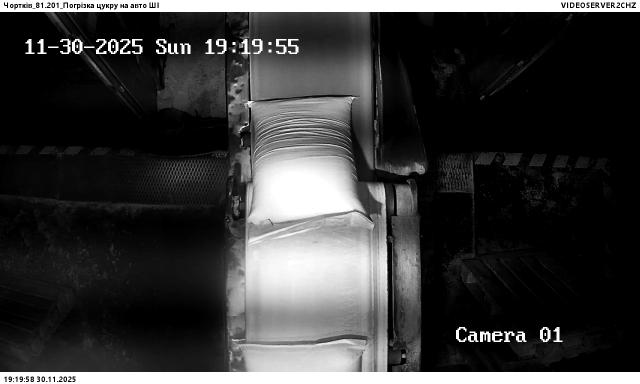bag: (247, 97, 375, 244), (242, 341, 368, 372)
